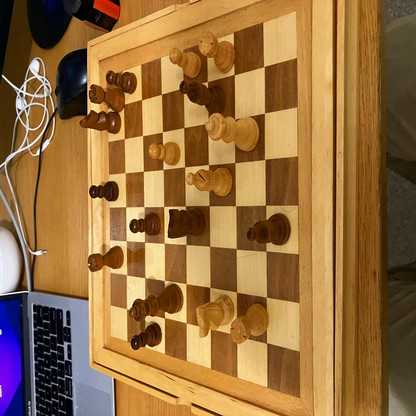bishop_black: (179, 81, 226, 113), (247, 213, 290, 245)
bishop_white: (186, 168, 232, 195)
knight_black: (168, 209, 204, 239), (80, 110, 121, 134)
knight_white: (196, 295, 234, 337)
pawn_black: (132, 323, 162, 349), (106, 70, 137, 94), (90, 181, 119, 202), (130, 215, 160, 235)
pawn_white: (169, 49, 202, 78), (149, 141, 180, 165)
queen_black: (129, 284, 183, 321)
queen_white: (206, 112, 259, 152)
rock_black: (89, 84, 126, 111), (88, 246, 123, 272)
rock_white: (230, 304, 269, 345), (199, 31, 235, 72)
